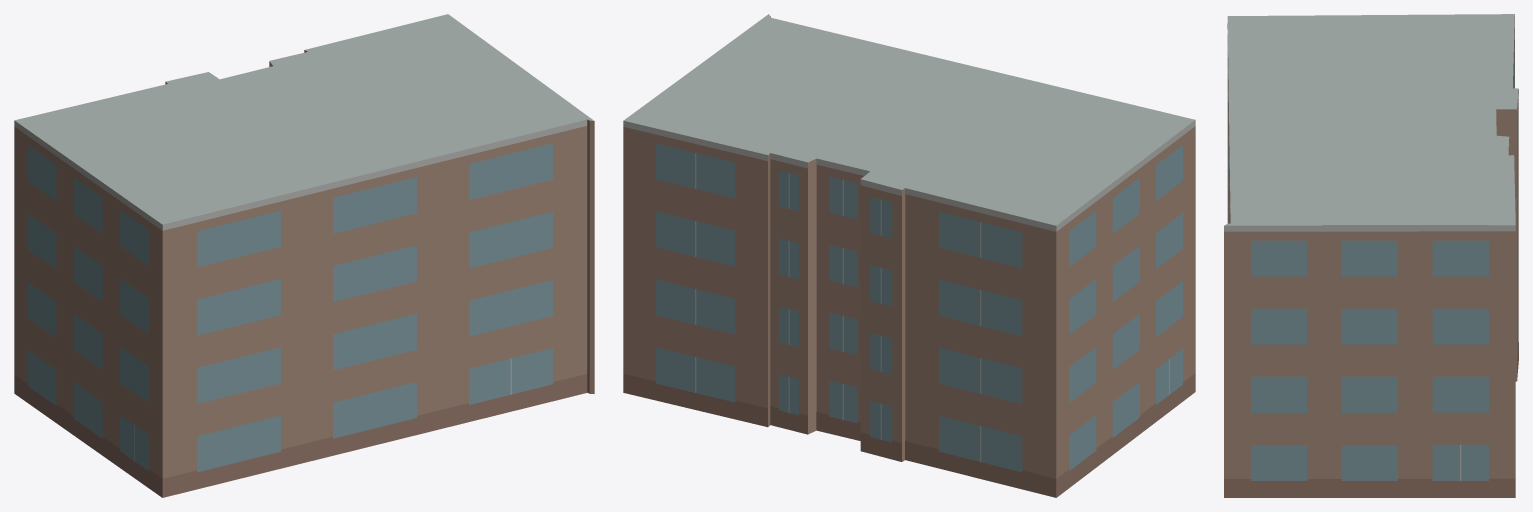
Rendered from survey-upis-32813395.glb.
The picture shows the model from 3 angles, left to right: view 1: azimuth 30°, elevation 25°; view 2: azimuth 150°, elevation 25°; view 3: azimuth 270°, elevation 25°; orthographic projection.
Parts seen in each view (by area): view 1: survey-upis-32813395.tmp; view 2: survey-upis-32813395.tmp; view 3: survey-upis-32813395.tmp.
Part boxes in pixels (box(x1,y1,x2,y2)): survey-upis-32813395.tmp: box(14, 14, 594, 497); survey-upis-32813395.tmp: box(623, 14, 1195, 497); survey-upis-32813395.tmp: box(1224, 14, 1518, 497).
Bounding box in the file's own units: 18.24 × 10.95 × 10.74.
